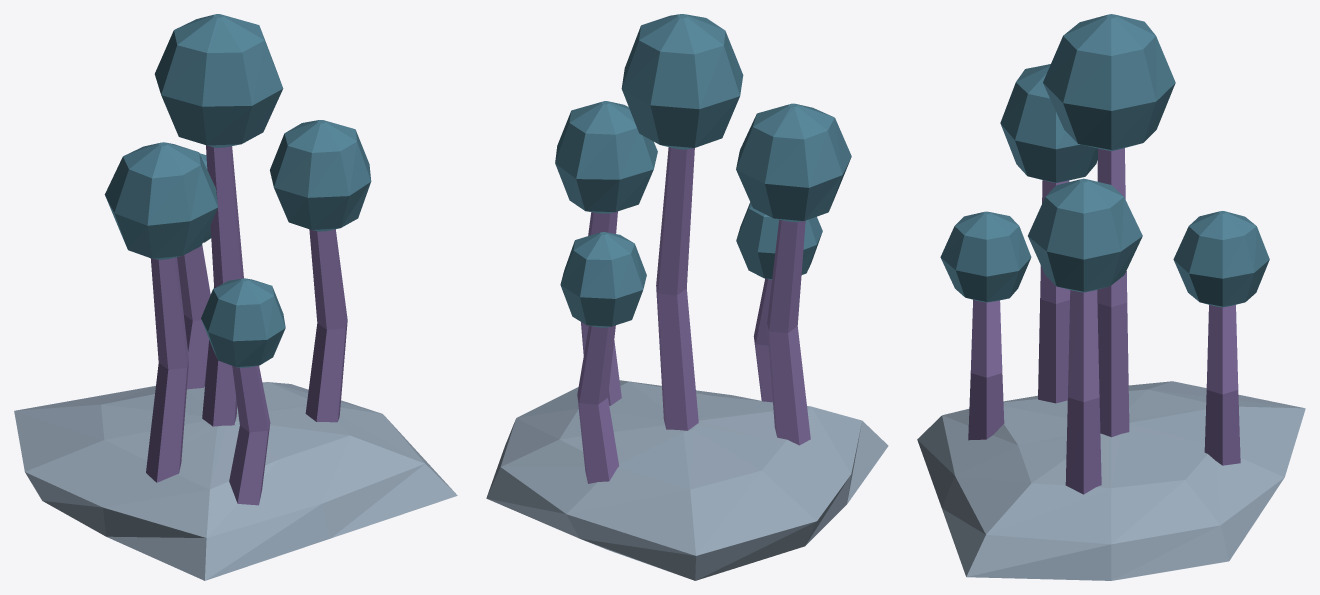
Rendered from bulb_cluster.glb.
The picture shows the model from 3 angles, left to right: view 1: azimuth 30°, elevation 25°; view 2: azimuth 150°, elevation 25°; view 3: azimuth 270°, elevation 25°; orthographic projection.
Parts seen in each view (by area): view 1: DL009_BulbCluster_stone_blue, DL009_BulbCluster_flora_body, DL009_BulbCluster_flora_violet; view 2: DL009_BulbCluster_stone_blue, DL009_BulbCluster_flora_body, DL009_BulbCluster_flora_violet; view 3: DL009_BulbCluster_stone_blue, DL009_BulbCluster_flora_body, DL009_BulbCluster_flora_violet.
Part boxes in pixels (<box>): DL009_BulbCluster_stone_blue: <box>14,382,457,580</box>; DL009_BulbCluster_flora_body: <box>104,14,371,367</box>; DL009_BulbCluster_flora_violet: <box>146,145,347,505</box>; DL009_BulbCluster_stone_blue: <box>486,380,888,580</box>; DL009_BulbCluster_flora_body: <box>555,14,851,327</box>; DL009_BulbCluster_flora_violet: <box>577,147,810,483</box>; DL009_BulbCluster_stone_blue: <box>917,381,1305,580</box>; DL009_BulbCluster_flora_body: <box>940,14,1269,307</box>; DL009_BulbCluster_flora_violet: <box>968,148,1240,494</box>.
Bounding box in the file's own units: 1.44 × 2.04 × 1.4.
